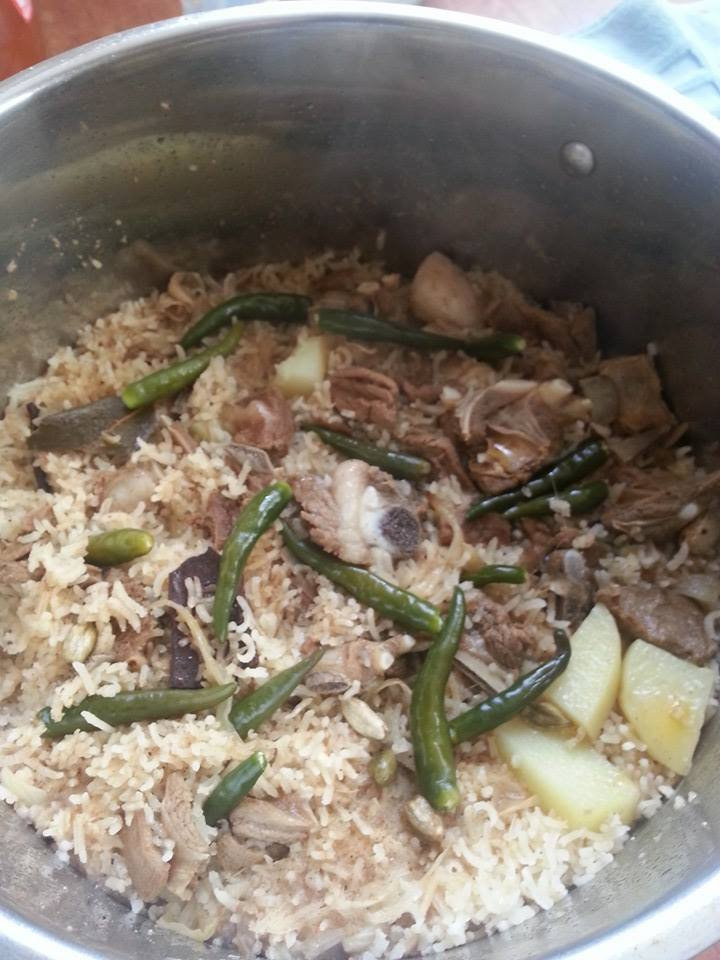tehari: (5, 244, 720, 950)
